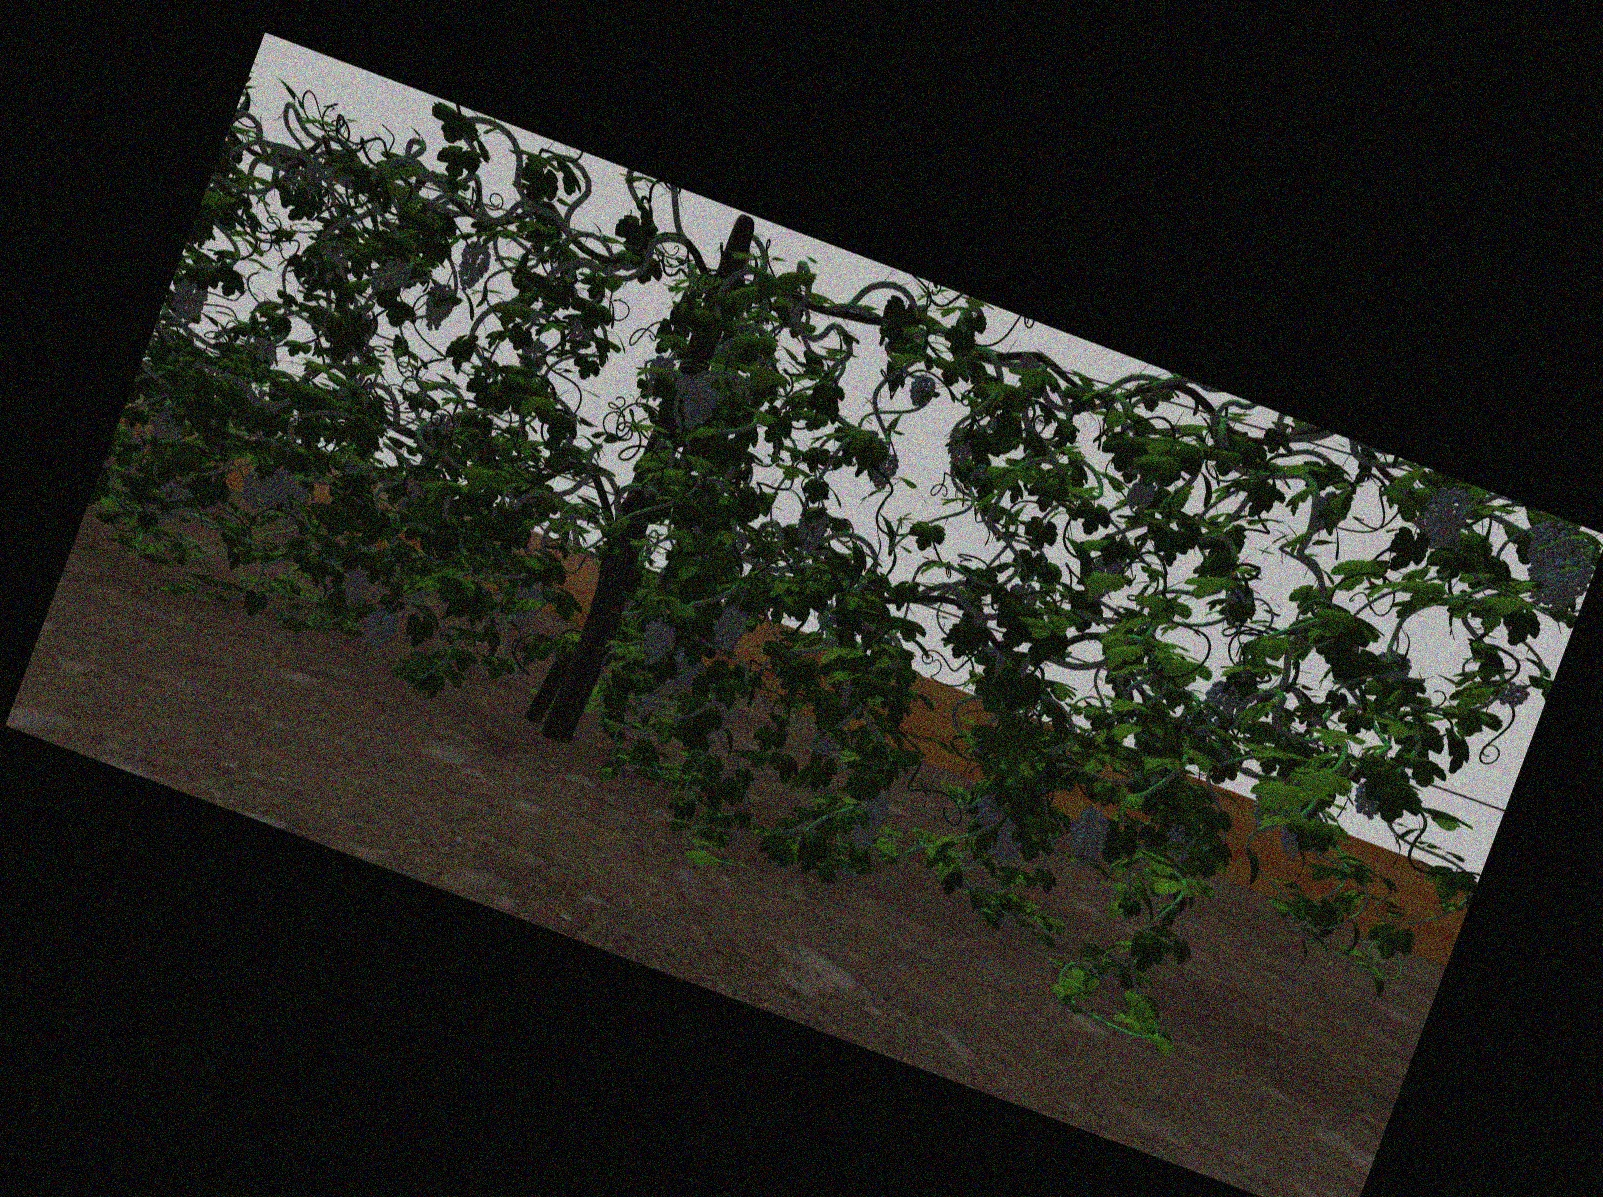grape: (1543, 554, 1585, 617), (1424, 485, 1465, 549), (1526, 519, 1568, 580), (1071, 808, 1106, 864), (852, 795, 885, 852), (456, 241, 489, 290), (640, 619, 671, 666), (714, 607, 746, 655), (681, 383, 713, 431), (1202, 681, 1236, 725), (171, 280, 204, 324), (668, 648, 697, 697), (422, 284, 453, 331), (365, 606, 395, 653), (373, 256, 409, 295), (994, 819, 1023, 865), (796, 510, 826, 554), (515, 580, 542, 629), (869, 451, 896, 490), (150, 411, 184, 441), (1353, 783, 1383, 817), (264, 468, 289, 508), (343, 570, 370, 606), (908, 375, 935, 407), (977, 795, 1003, 829), (283, 488, 306, 527), (1500, 680, 1529, 709), (1128, 480, 1154, 512), (158, 480, 189, 504), (241, 472, 263, 504), (637, 692, 659, 715)
